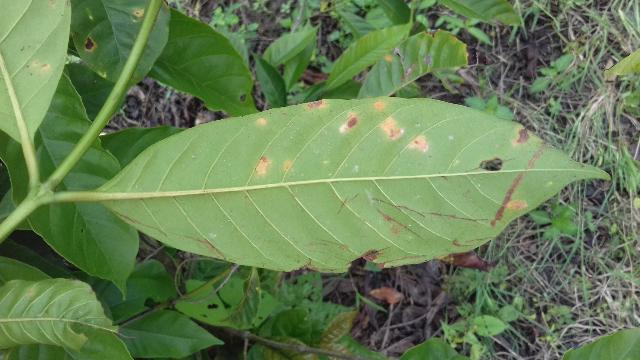rust_level_1: (81, 92, 618, 279)
